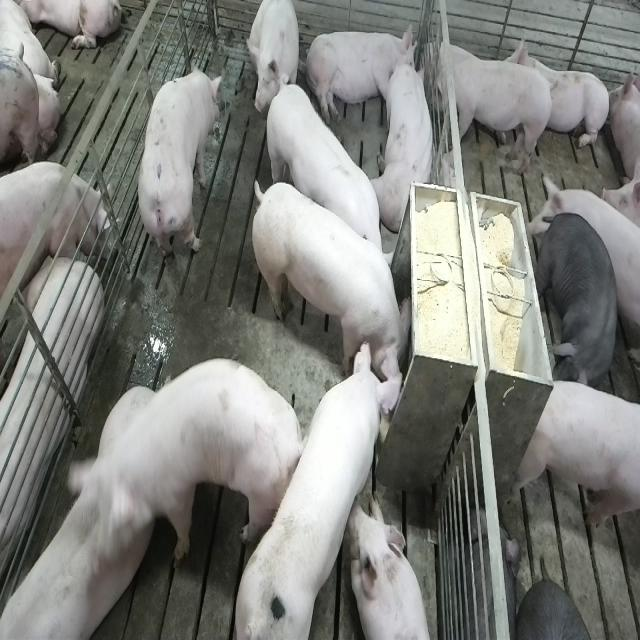Feeding: (238, 332, 414, 636), (255, 172, 420, 396)
Lateral_lying: (0, 242, 101, 607), (304, 22, 417, 128)
Sitting: (248, 2, 304, 118)
Standing: (132, 358, 310, 569), (262, 77, 393, 285), (0, 453, 140, 640), (513, 372, 639, 542), (137, 58, 223, 278), (424, 48, 556, 182), (530, 209, 619, 388), (0, 162, 110, 299)
Sternal_lying: (501, 29, 608, 153), (352, 500, 434, 640), (375, 56, 438, 232)
